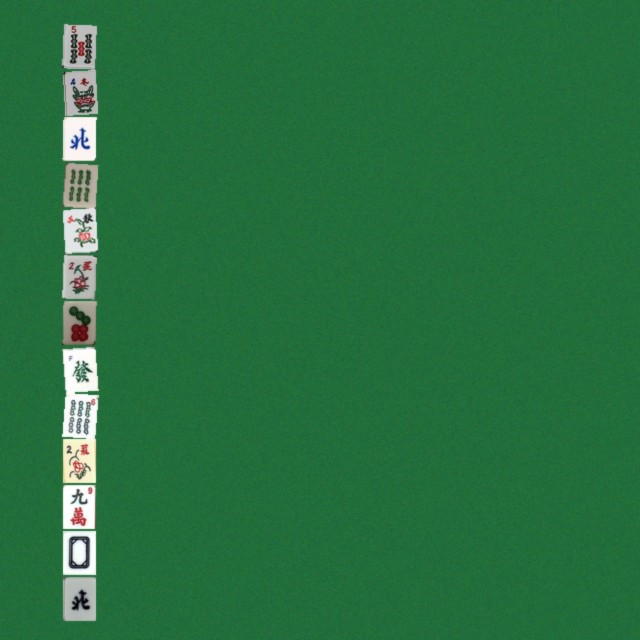tile: (62, 24, 95, 68), (62, 70, 95, 114), (62, 116, 95, 160), (62, 162, 95, 206), (62, 208, 95, 252), (62, 254, 95, 298), (62, 300, 95, 344), (62, 346, 95, 390), (62, 392, 95, 436), (62, 438, 95, 482), (62, 484, 95, 528), (62, 530, 95, 574), (62, 576, 95, 620)
